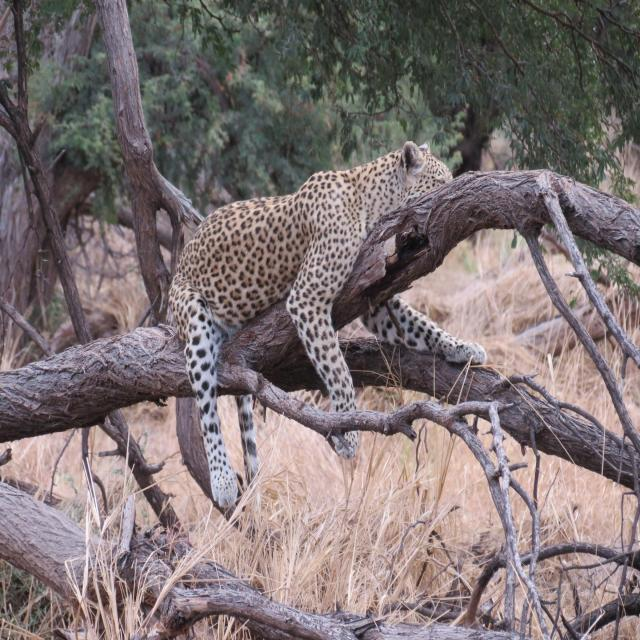Leopard: (178, 151, 492, 521)
